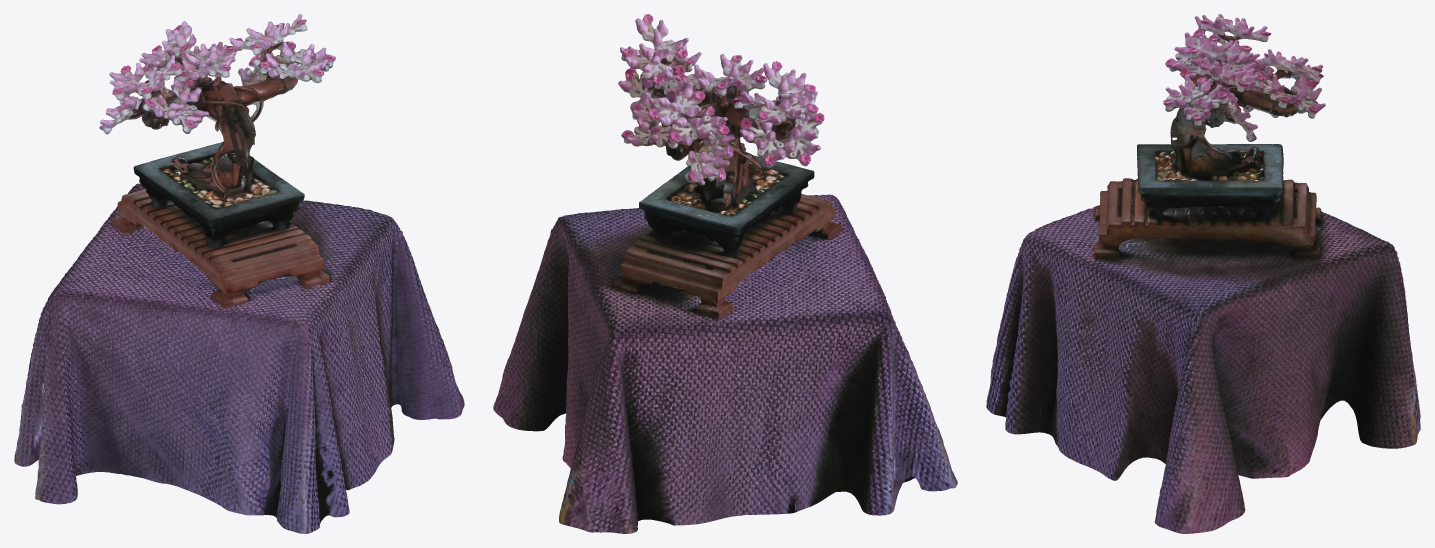
Rendered from sf-table-bonsai-scene-ba5c03.glb.
3 views of the same model, side by side, from view 1: azimuth 30°, elevation 25°; view 2: azimuth 150°, elevation 25°; view 3: azimuth 270°, elevation 25° (orthographic). The views are drawn at different scales.
Parts seen in each view (by area): view 1: Model_material0_0, Model_material1_0; view 2: Model_material1_0, Model_material0_0; view 3: Model_material0_0, Model_material1_0.
Boxes of the visible parts, x1,y1,x2,y2 form: Model_material0_0: (14,14,464,533); Model_material1_0: (64,18,349,532); Model_material1_0: (559,14,872,533); Model_material0_0: (493,18,957,515); Model_material0_0: (986,15,1351,533); Model_material1_0: (986,14,1420,478).
Bounding box in the file's own units: 1.36 × 1.24 × 1.22.
2 materials, 2 textured.
